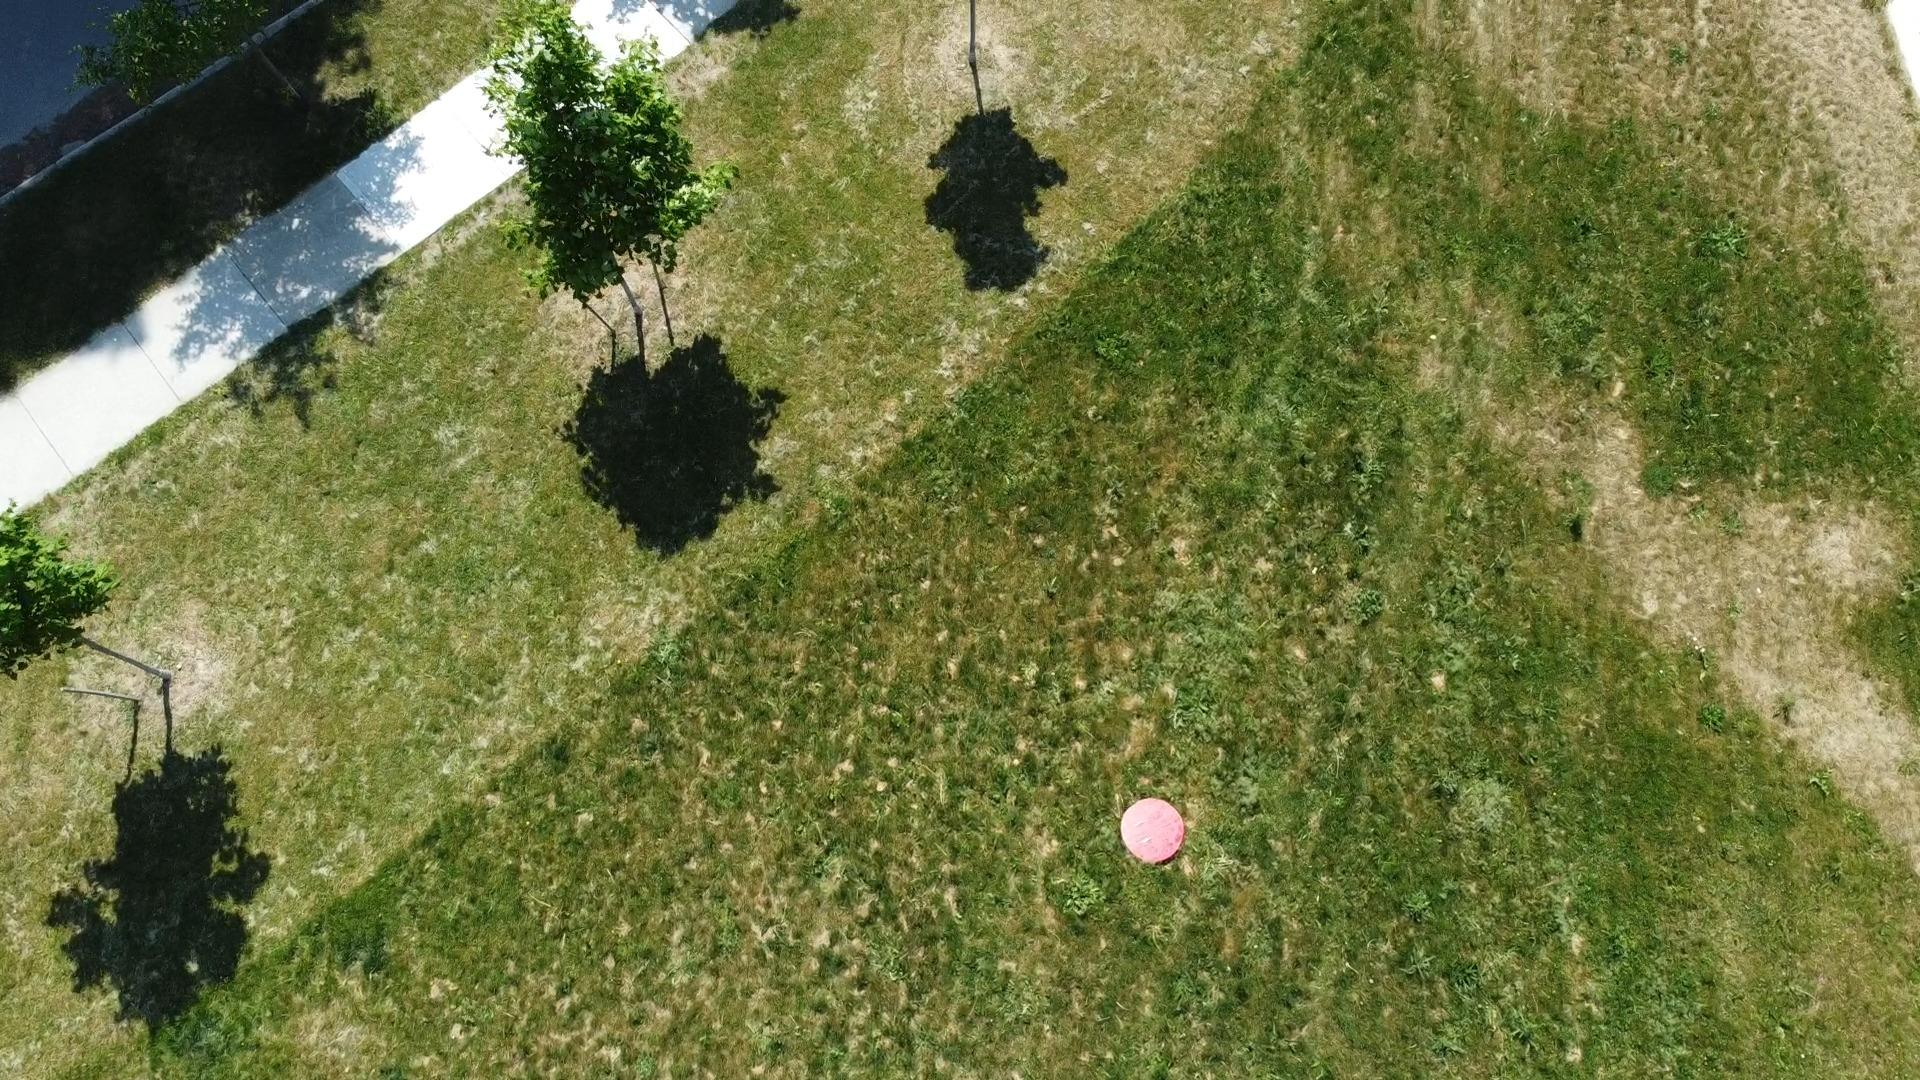Red: (1117, 794, 1188, 868)
